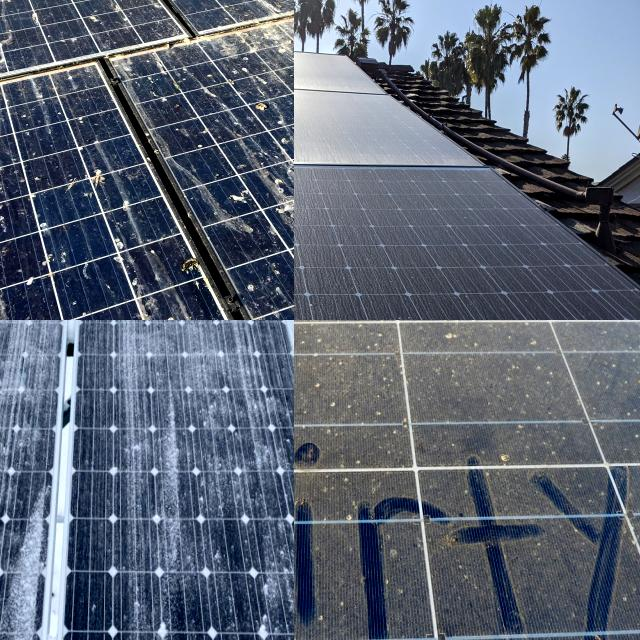bird: (74, 138, 112, 202), (263, 173, 294, 246), (0, 177, 25, 237), (180, 250, 202, 318), (248, 90, 280, 136), (197, 0, 251, 25), (0, 285, 20, 320), (33, 0, 71, 17), (276, 33, 294, 64), (0, 0, 22, 24)
dust: (436, 526, 640, 622), (294, 523, 415, 636), (294, 179, 405, 257), (294, 533, 373, 640), (430, 173, 504, 280), (393, 320, 545, 369), (411, 364, 554, 416), (294, 367, 398, 429), (423, 472, 603, 506), (294, 169, 394, 220), (294, 230, 345, 320), (294, 357, 370, 415), (294, 320, 368, 377), (294, 480, 397, 519), (294, 239, 340, 320), (294, 438, 389, 477), (570, 320, 640, 372), (294, 478, 385, 511), (589, 357, 640, 413), (294, 320, 347, 372), (294, 320, 318, 376)
panel: (126, 416, 199, 640), (233, 417, 294, 640), (0, 472, 42, 640)
